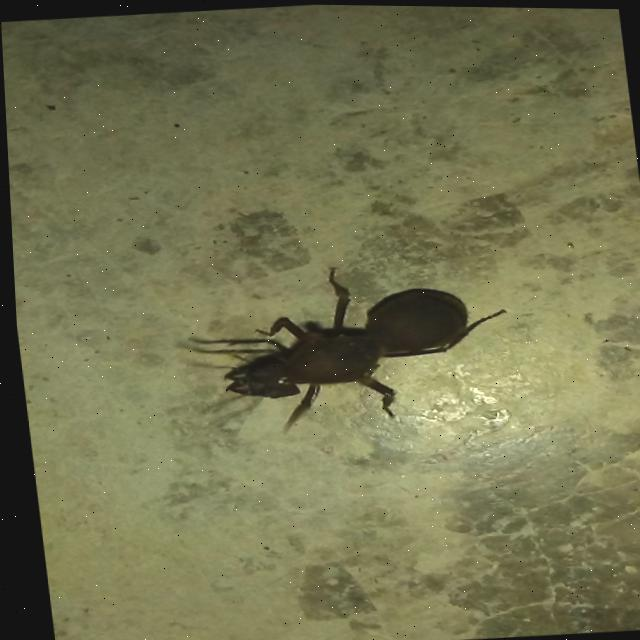Alive-Female-Dealate: (171, 254, 514, 439)
